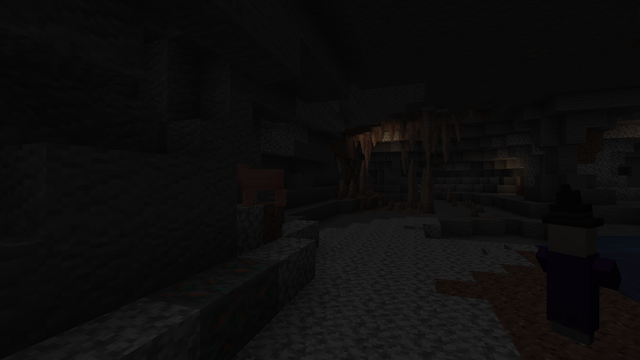cochons: (242, 167, 287, 206)
sorcieres: (541, 216, 607, 350)
